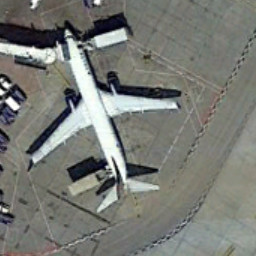Airplane: (17, 21, 193, 217)
